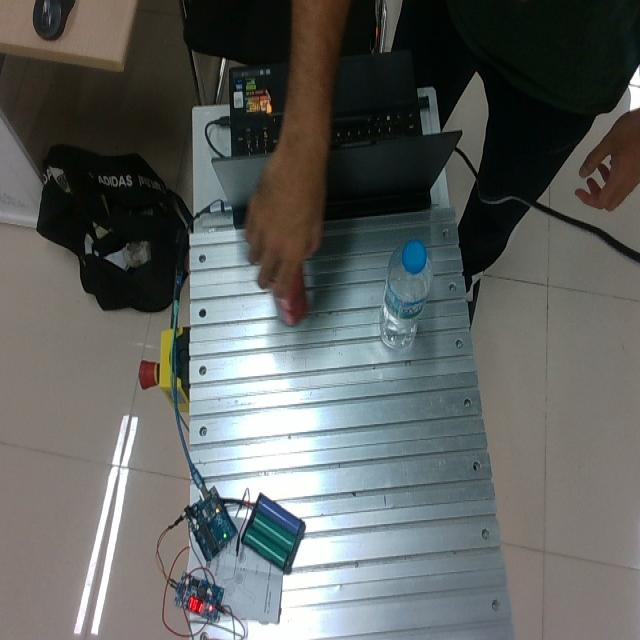coca: (269, 264, 307, 327)
lavie: (377, 238, 432, 350)
